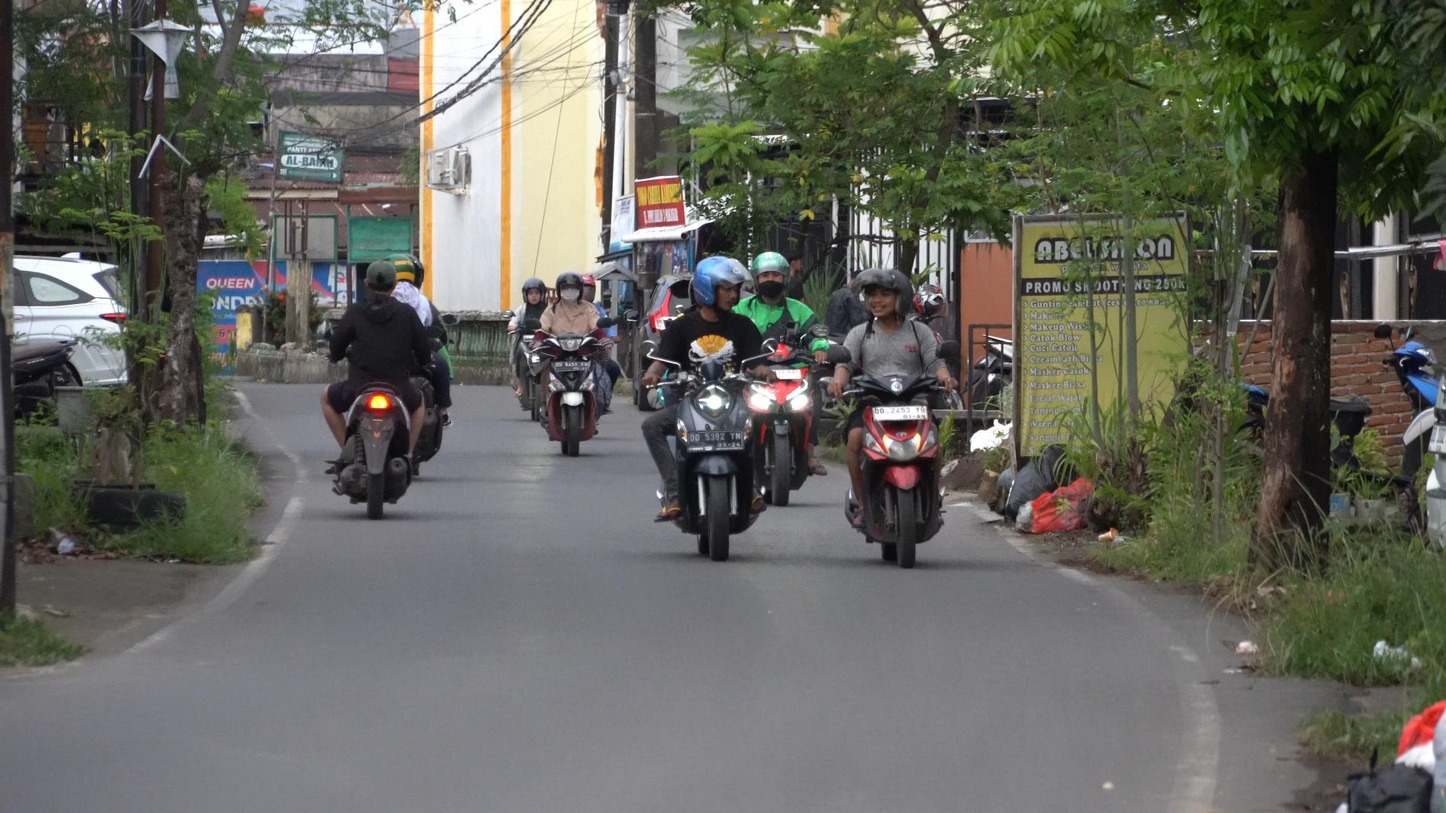number-plate: (685, 426, 742, 450), (871, 404, 927, 425), (547, 355, 594, 376)
